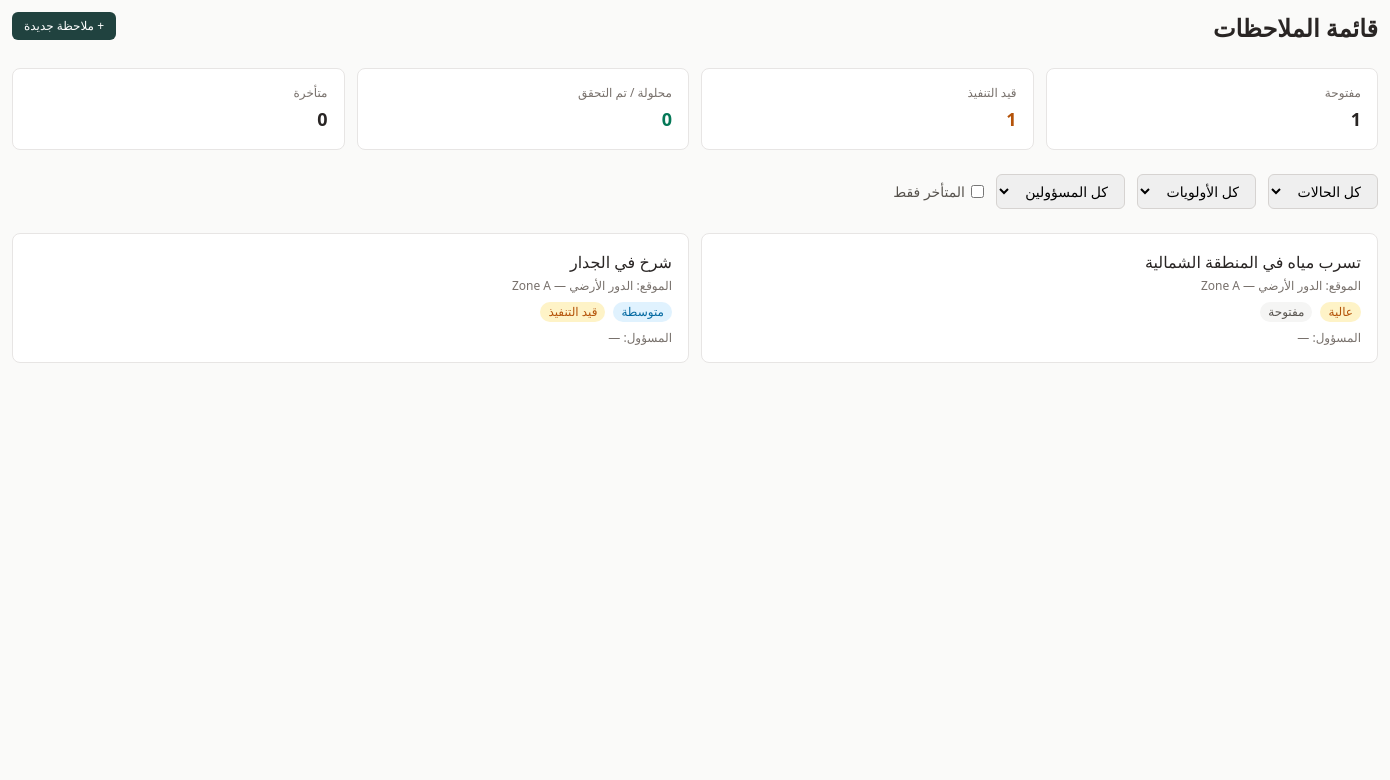
Scenario: <PunchListSection/> › creating an item posts the form fields
Check: the text "تسرب مياه في المنطقة الشمالية" is shown, box [1145,251,1361,273]
Click the button "+ ملاحظة جديدة": (64, 26) [12,12,116,40]
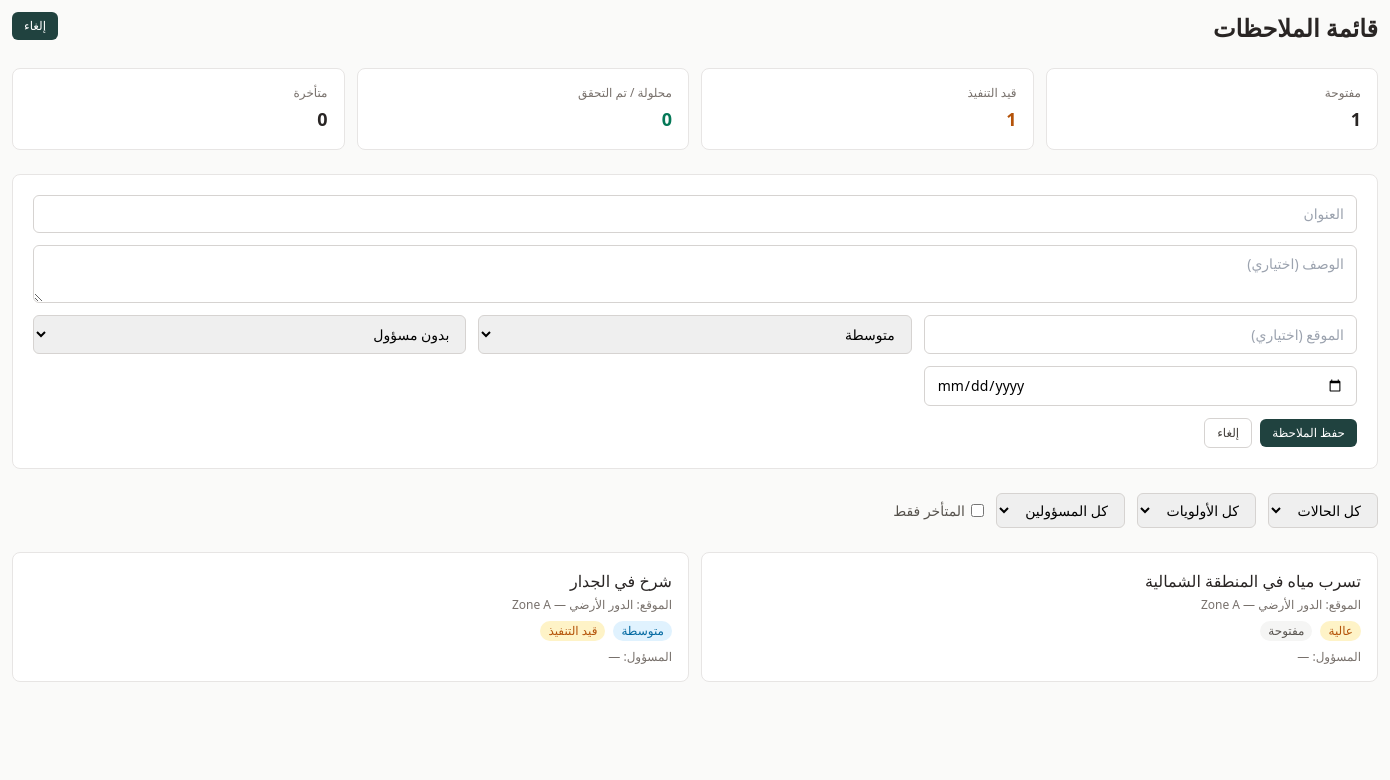
In the field with placeholder "العنوان": (695, 214) [33,195,1357,233], type "ملاحظة جديدة"
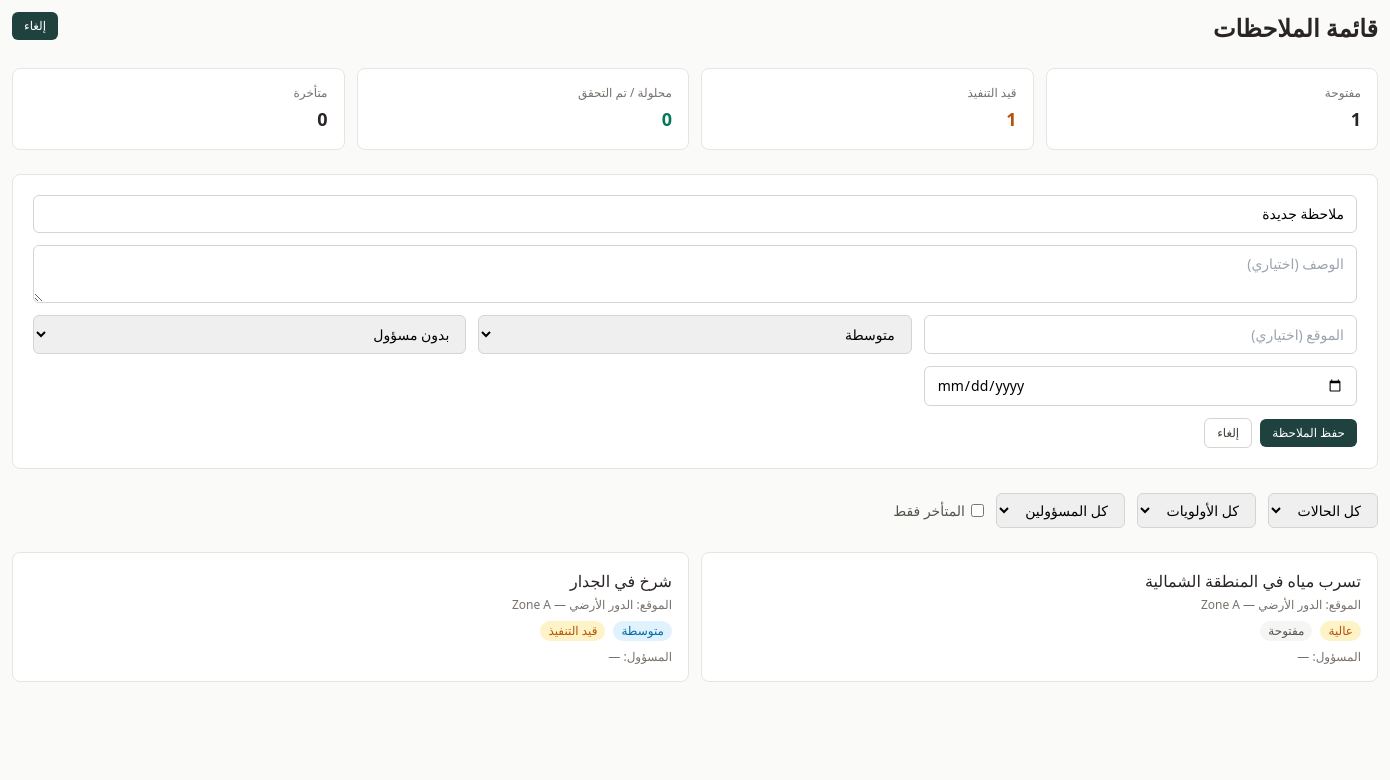
Select "عالية" in the 2nd dropdown: (695, 334) [478,315,912,354]
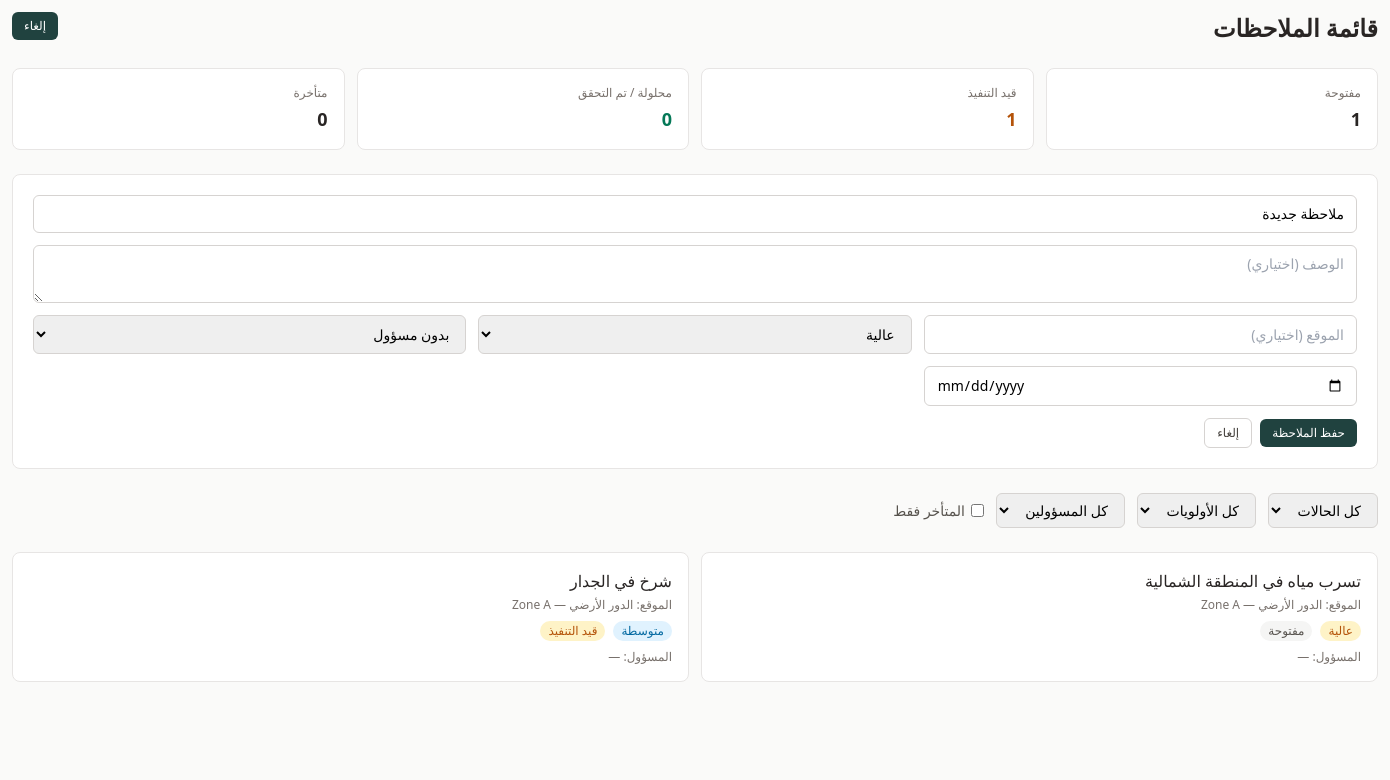
Click the button "حفظ الملاحظة": (1309, 433) [1260,419,1357,447]
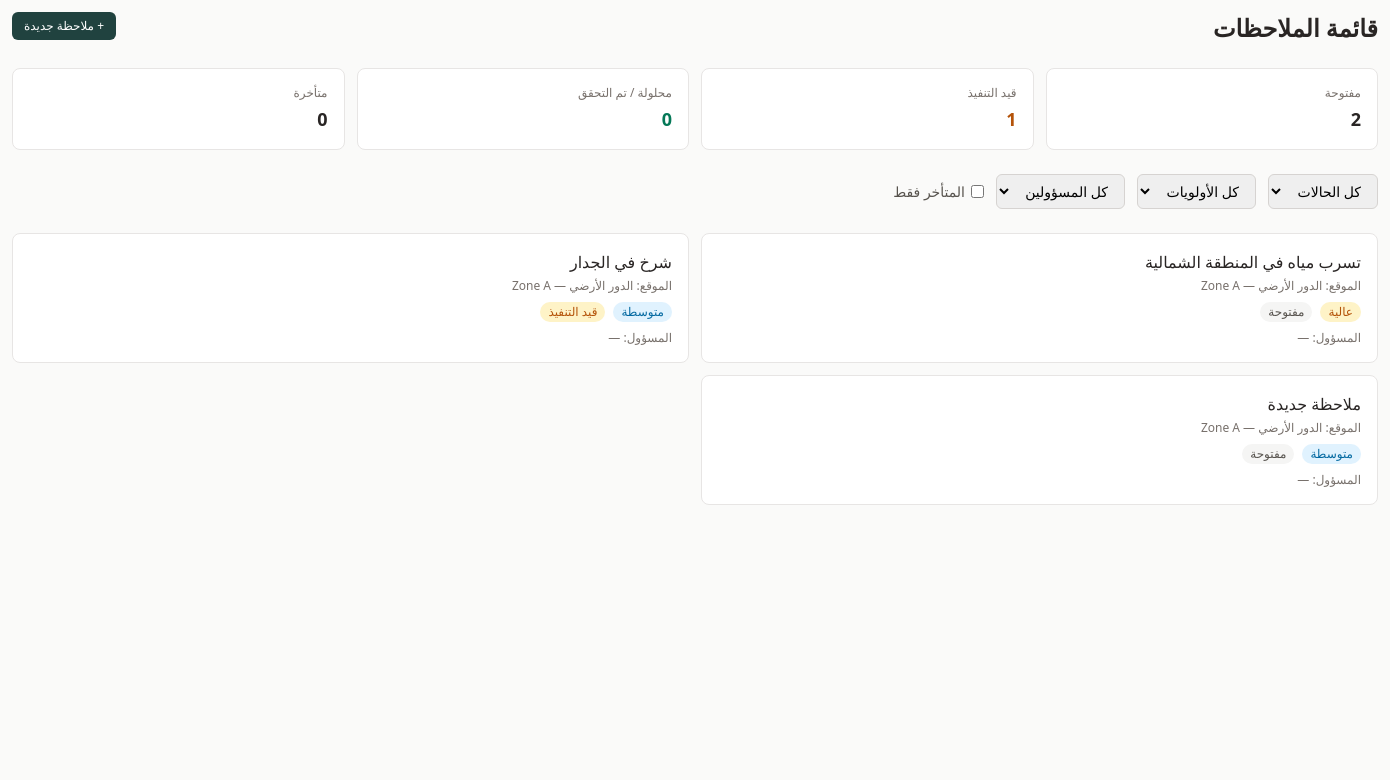
Check: the text "ملاحظة جديدة" is shown, box [1268,393,1361,415]
